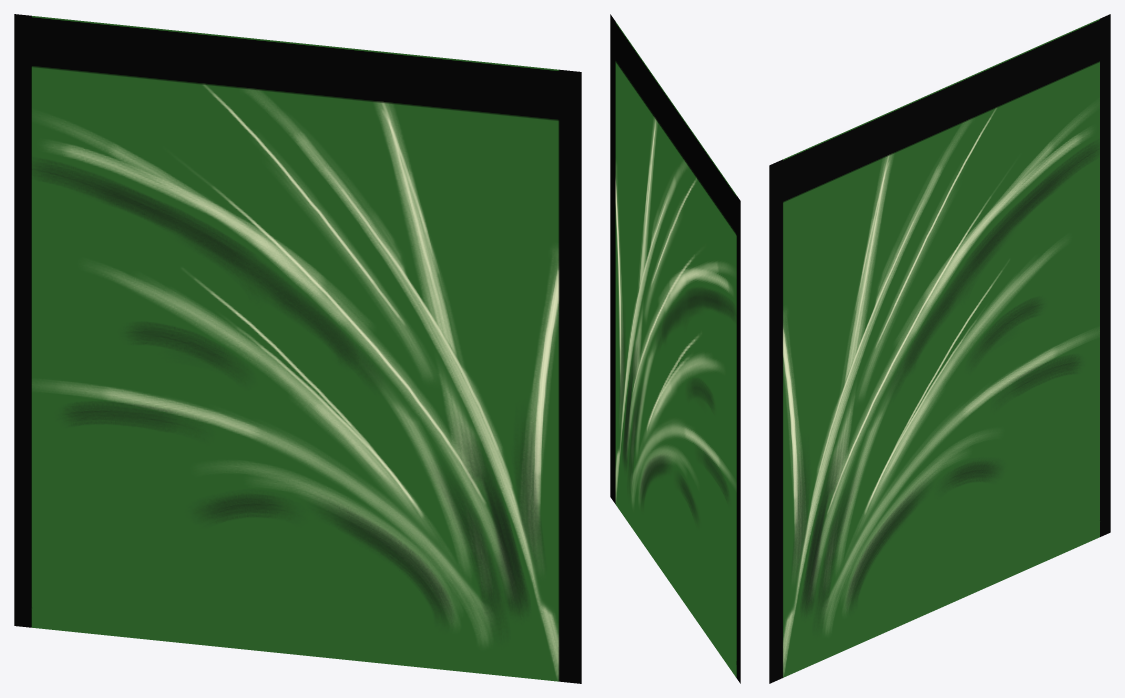
Rendered from GRASS.fbx.
3 views of the same model, side by side, from view 1: azimuth 30°, elevation 25°; view 2: azimuth 150°, elevation 25°; view 3: azimuth 270°, elevation 25° (orthographic). The views are drawn at different scales.
Visible parts, largest first — view 1: GRASS_3; view 2: GRASS_3; view 3: GRASS_3.
Boxes of the visible parts, bbox=[...] form: GRASS_3: bbox=[14, 14, 581, 683]; GRASS_3: bbox=[610, 14, 740, 683]; GRASS_3: bbox=[769, 14, 1110, 683].
Size of the model in its own units: 12.97 by 20.71 by 12.35.
